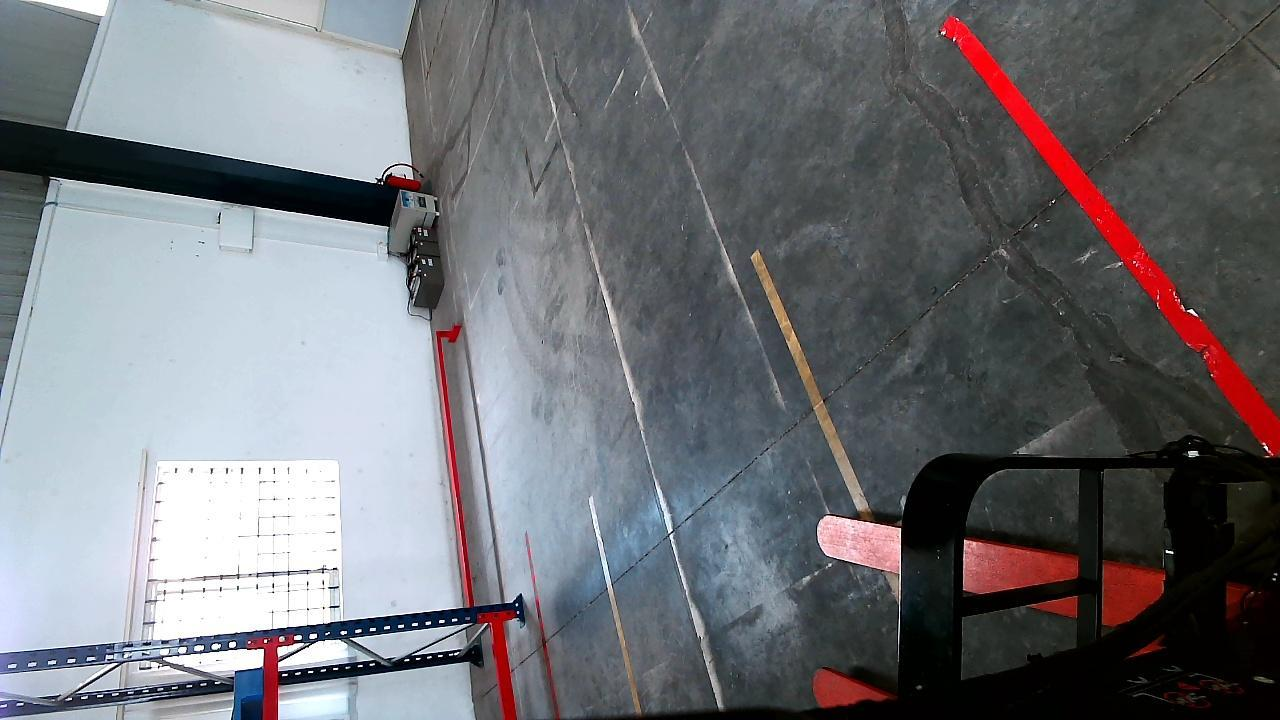red_line: (941, 11, 1280, 450)
yellow_line: (750, 251, 871, 512), (588, 495, 642, 715)
